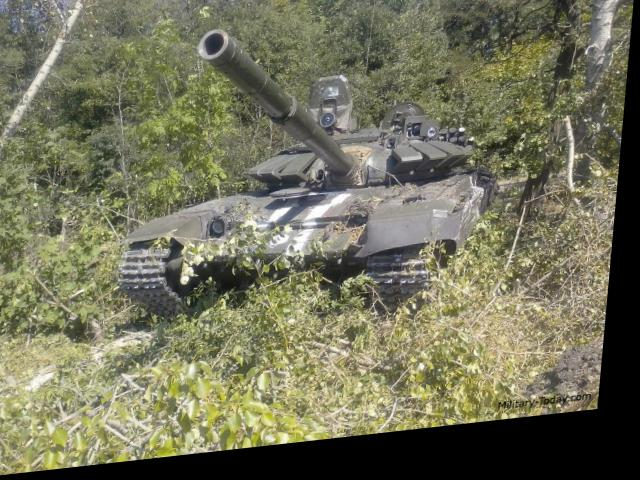tank: (106, 66, 514, 329)
